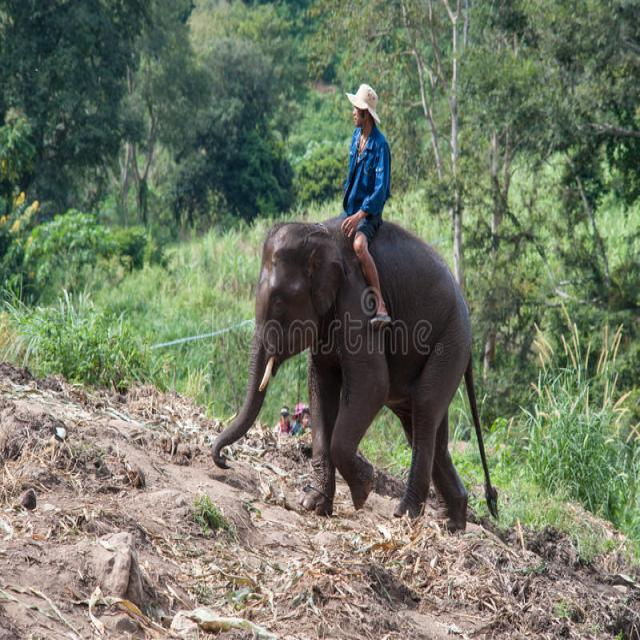Elephant: (208, 209, 487, 551)
